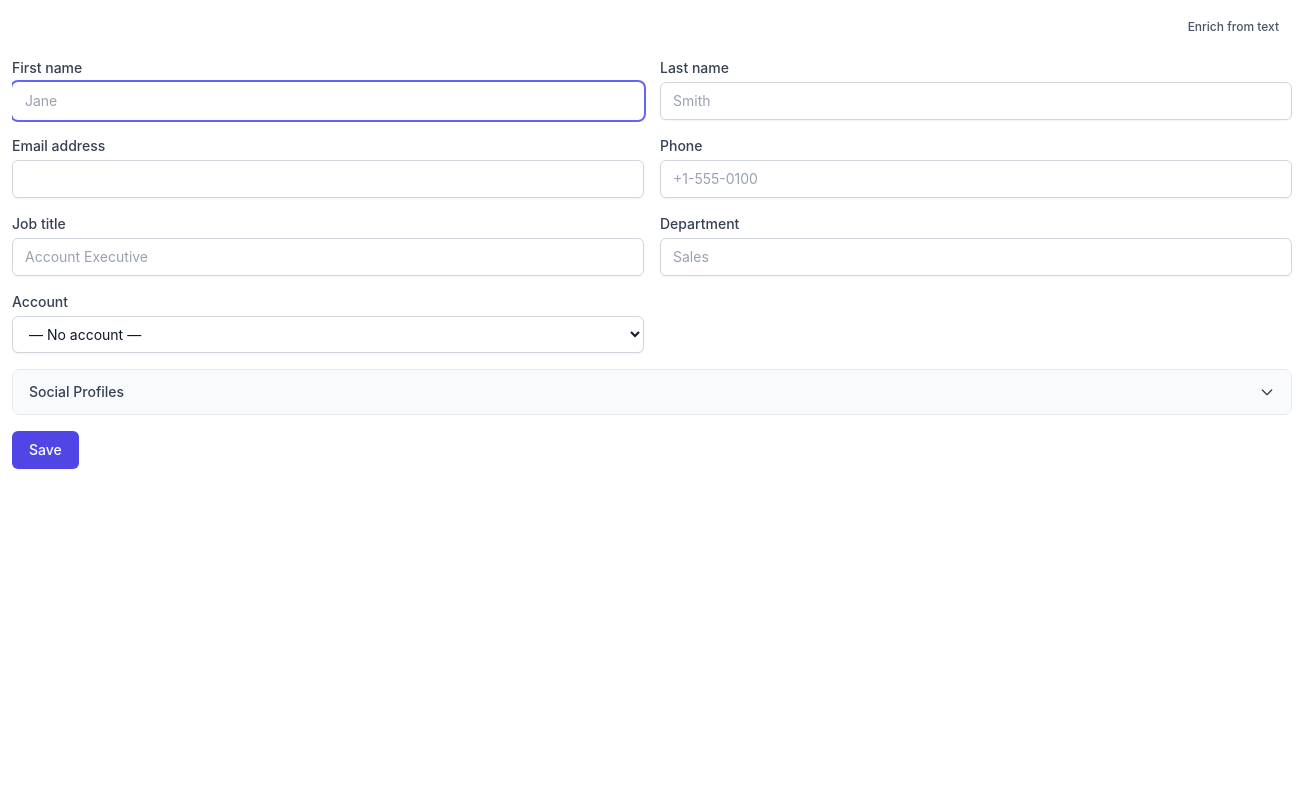
Scenario: ContactForm › social URL auto-prepend › prepends https:// to other_url on blur
This screenshot has width=1304, height=812.
Click the button with test id "contact-social-toggle" at (77, 392), box 13,370 -> 1291,414
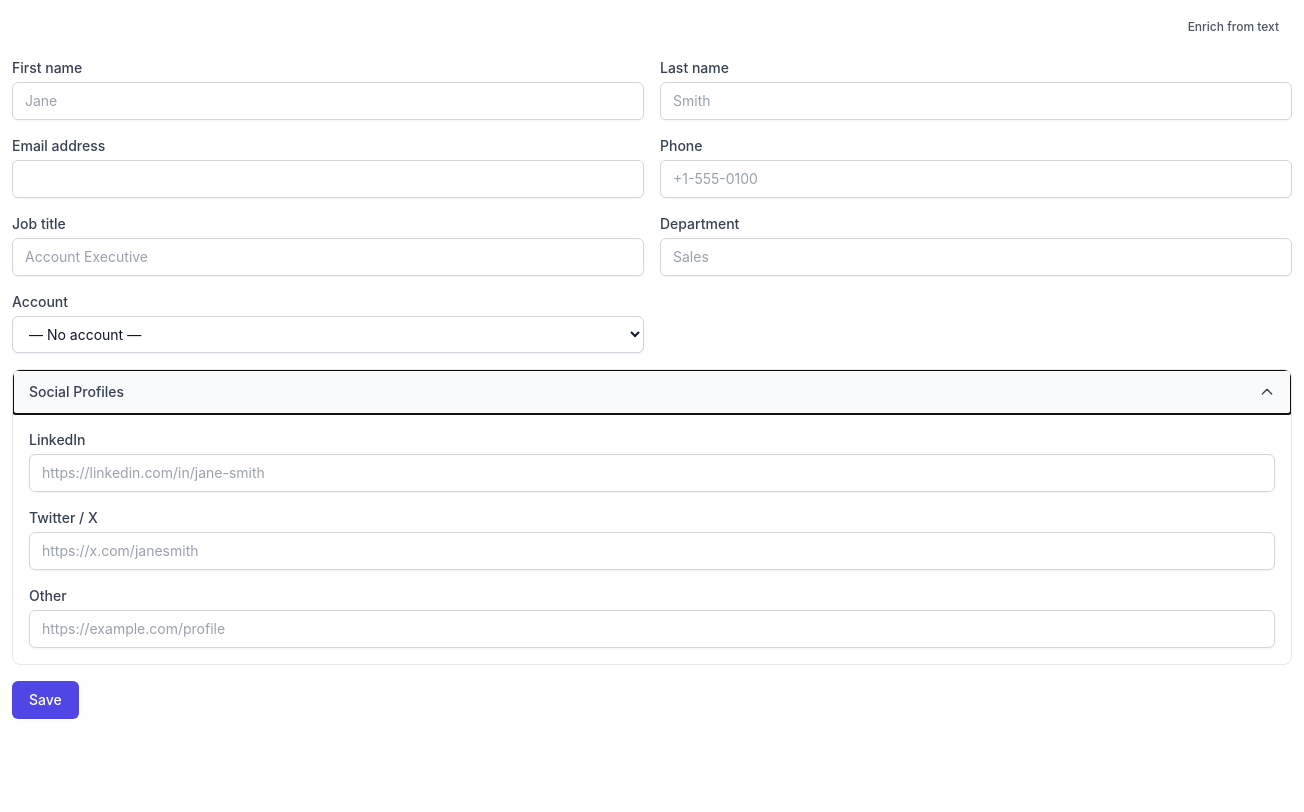
Type "example.com/profile" into the field with test id "contact-other-url" at (652, 629), box 29,610 -> 1275,648
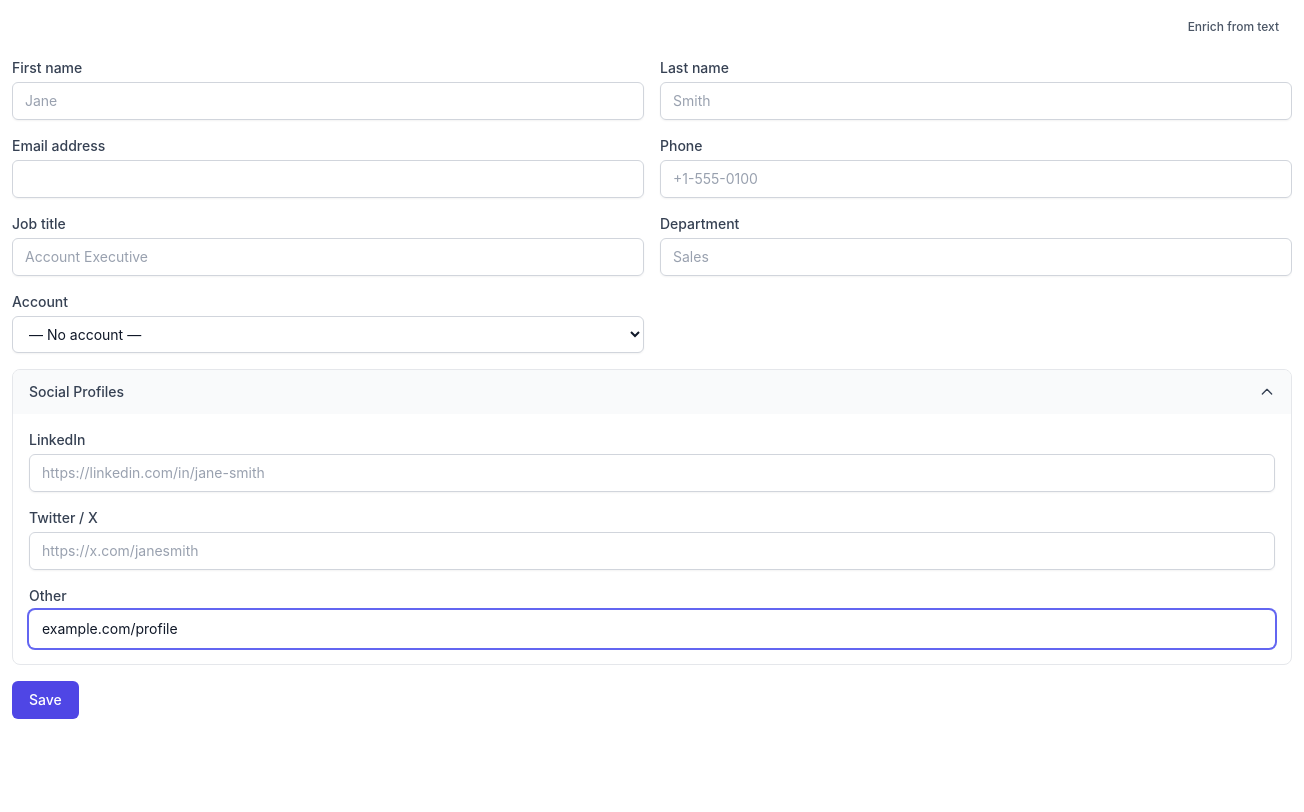
Leave the field with test id "contact-other-url", box 29,610 -> 1275,648
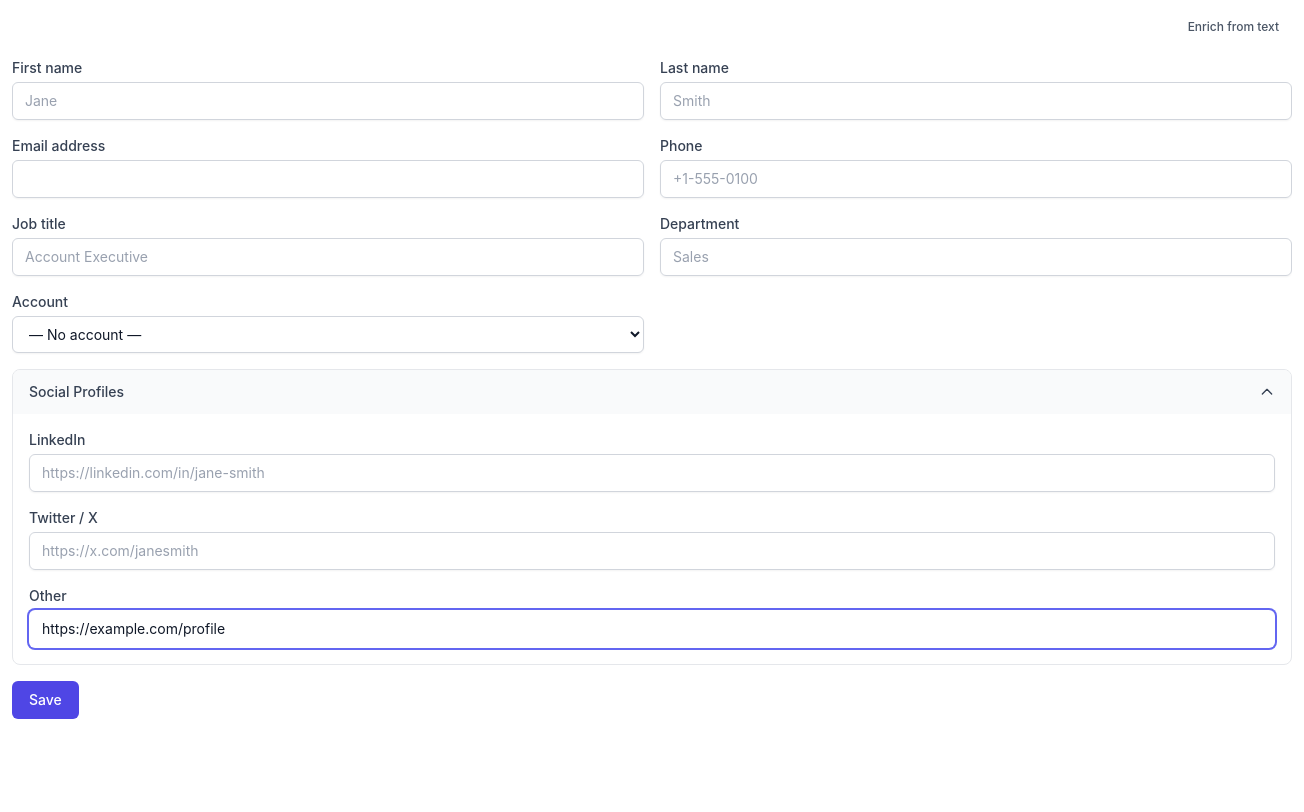
Expected: the field with test id "contact-other-url" holds "https://example.com/profile", 29,610 -> 1275,648
